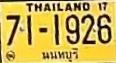1: (26, 15, 32, 44), (54, 14, 58, 44)
2: (81, 14, 95, 44)
6: (97, 13, 111, 43)
7: (5, 14, 20, 45)
9: (65, 14, 79, 44)
NBI: (41, 47, 79, 62)
